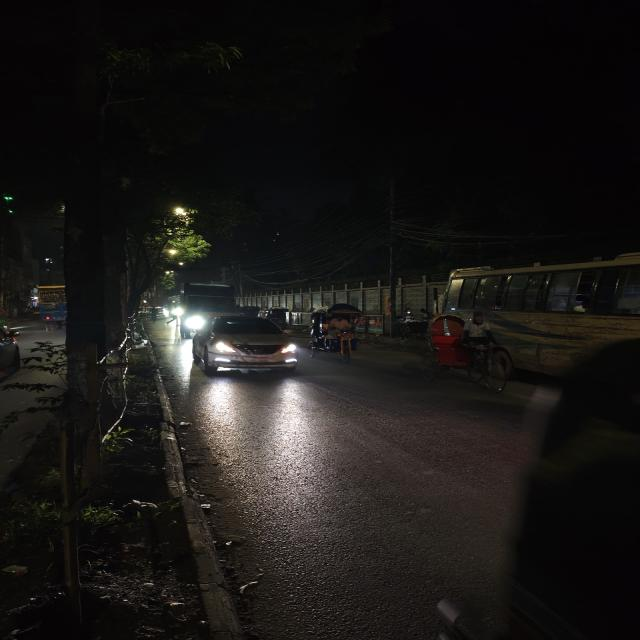bus: (527, 259, 640, 387)
car: (186, 313, 300, 379)
motorcycle: (149, 304, 161, 328)
pickup_van: (31, 286, 72, 330)
rickshaw: (414, 307, 522, 395), (306, 308, 365, 364)
truck: (176, 281, 237, 320)
